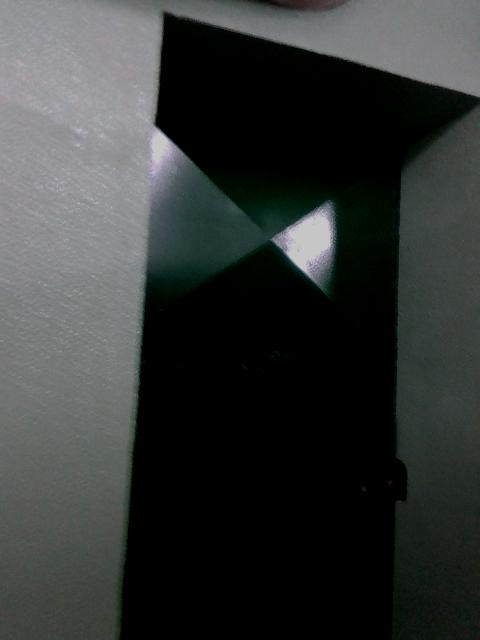closed_door: (116, 82, 410, 639)
